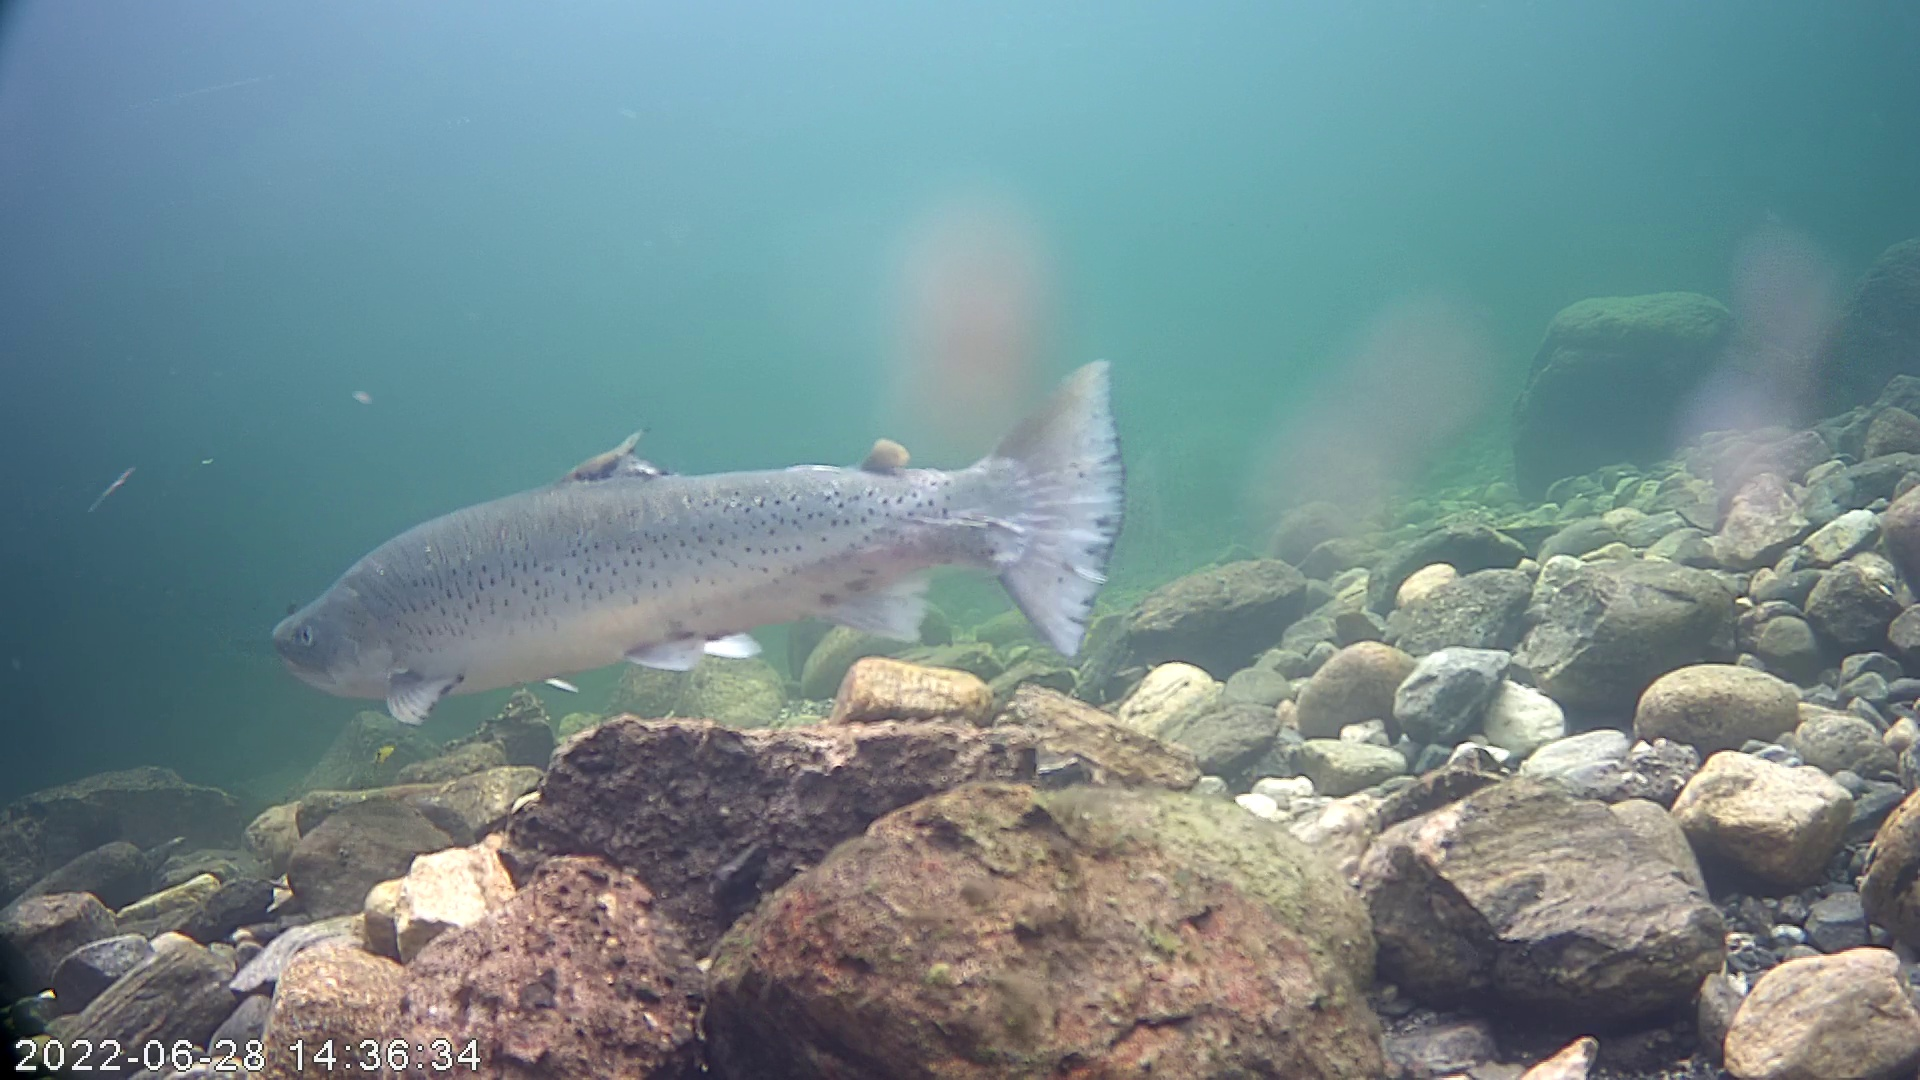salmon: (262, 293, 1151, 746)
